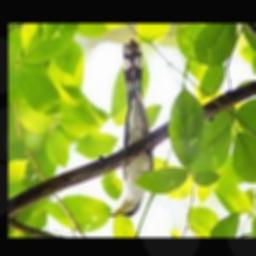Cuckoo: (108, 40, 153, 218)
